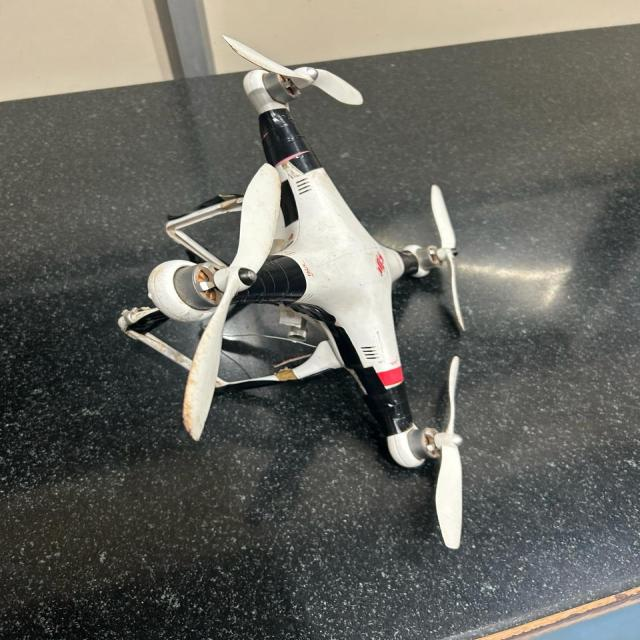drone: (76, 21, 588, 564)
